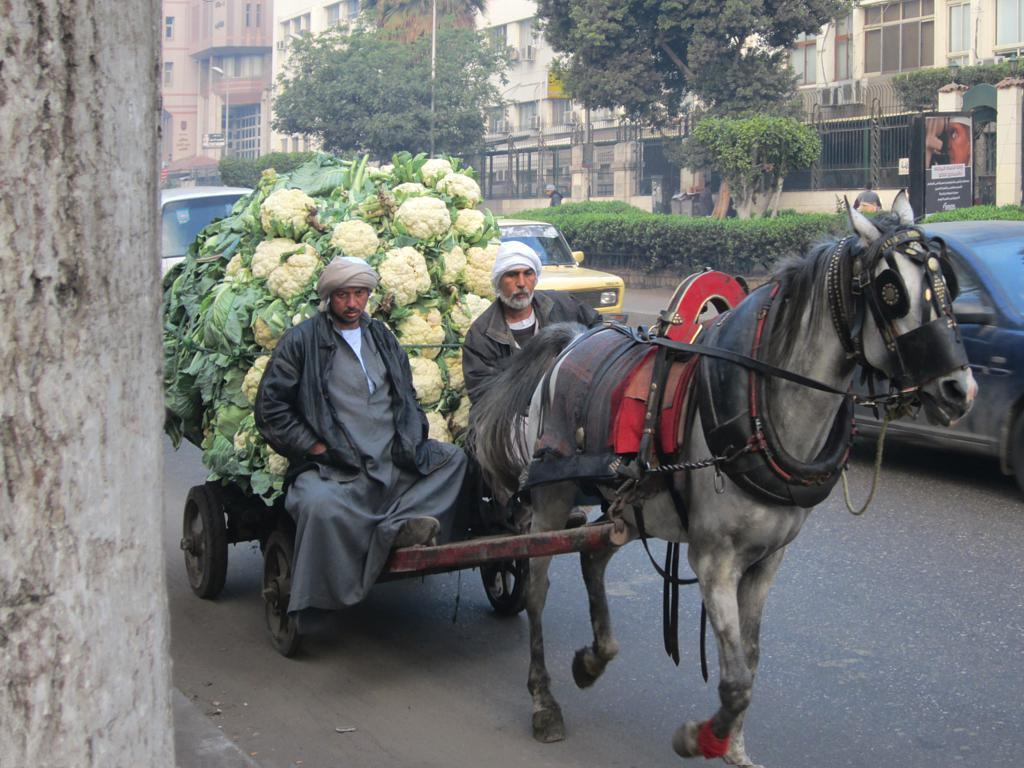horse: (452, 187, 978, 766)
